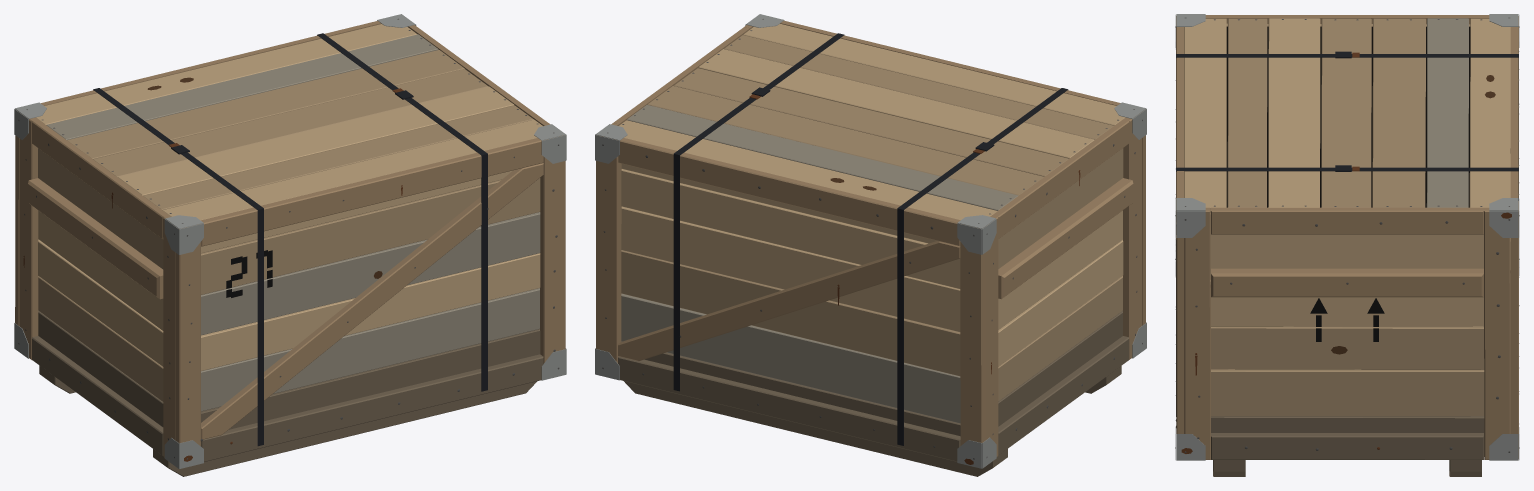
The model's file is crate_c.glb.
3 views of the same model, side by side, from view 1: azimuth 30°, elevation 25°; view 2: azimuth 150°, elevation 25°; view 3: azimuth 270°, elevation 25° (orthographic). The views are drawn at different scales.
Parts seen in each view (by area): view 1: kiste; view 2: kiste; view 3: kiste.
Part boxes in pixels (x1=…): kiste: x1=14, y1=14, x2=566, y2=476; kiste: x1=595, y1=14, x2=1146, y2=476; kiste: x1=1175, y1=14, x2=1519, y2=476.
Size of the model in its own units: 1.17 by 0.7543 by 0.845.
